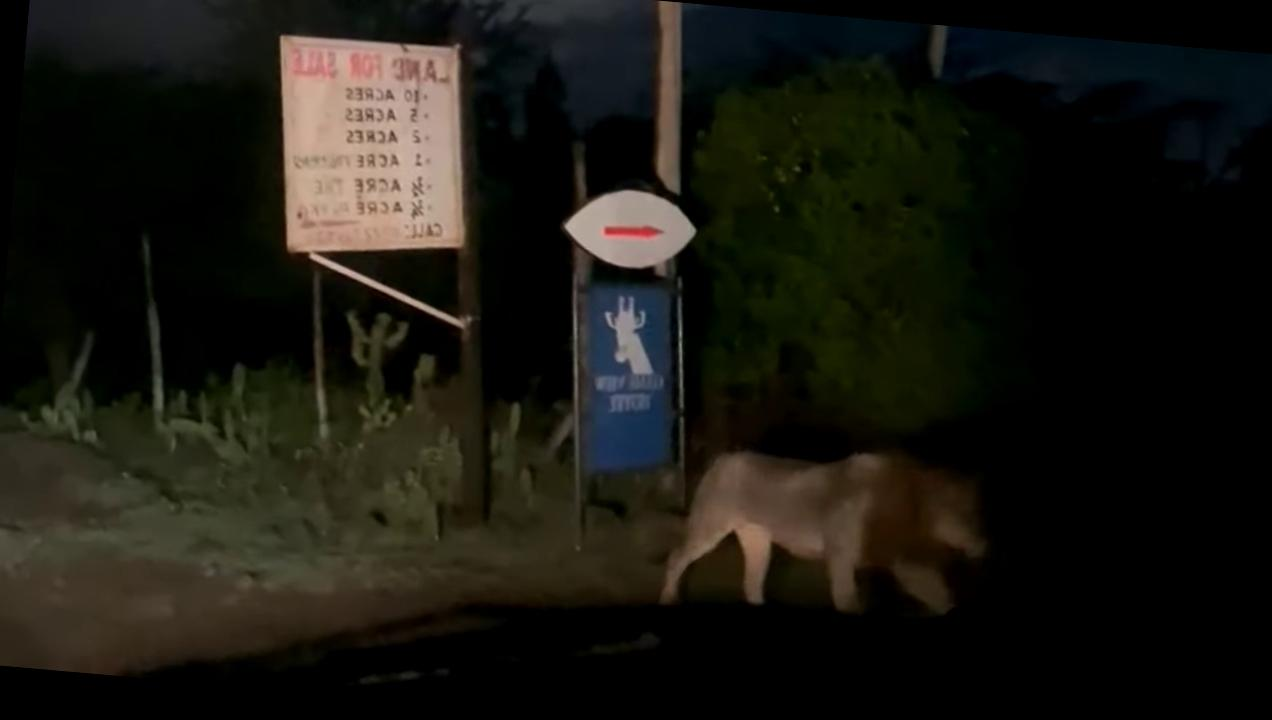lions: (638, 406, 994, 624)
